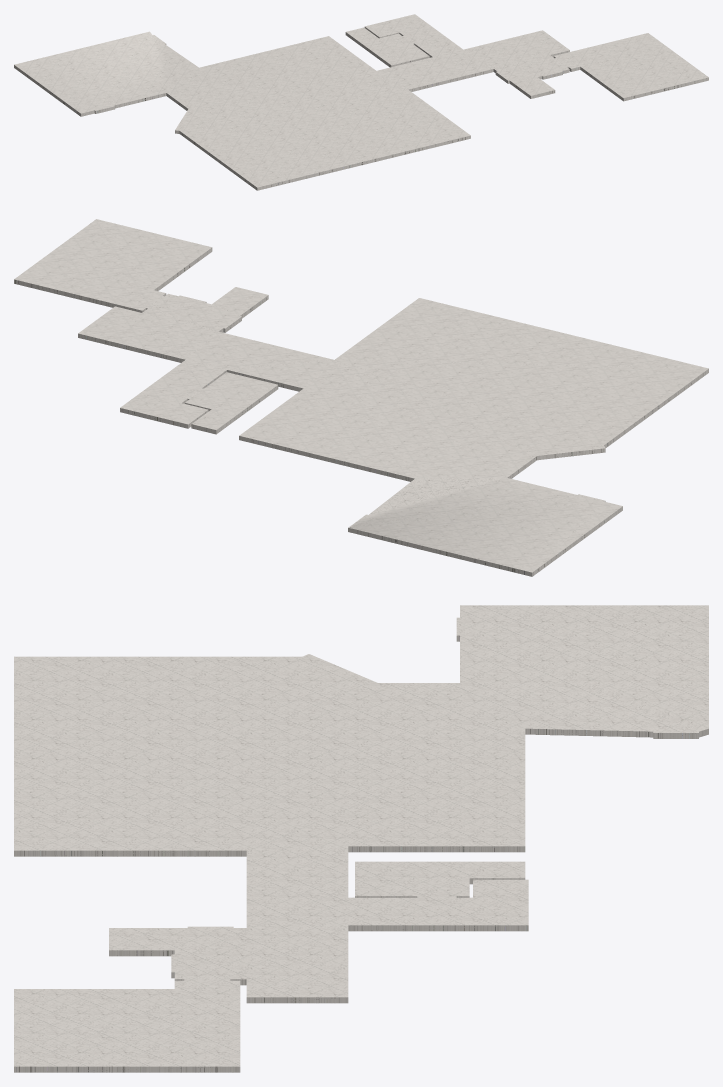
Rendered from 1989_kitchen_Floor_Glacier.gltf.
3 views of the same model, one above another, from view 1: azimuth 30°, elevation 25°; view 2: azimuth 150°, elevation 25°; view 3: azimuth 270°, elevation 25° (orthographic). The views are drawn at different scales.
Visible parts, largest first — view 1: Line23799; view 2: Line23799; view 3: Line23799.
Boxes of the visible parts, <box> form: Line23799: <box>14,14,708,190</box>; Line23799: <box>14,219,708,576</box>; Line23799: <box>14,605,708,1072</box>.
Bounding box in the file's own units: 33.3 × 0.3 × 21.2.
1 material, 1 textured.
